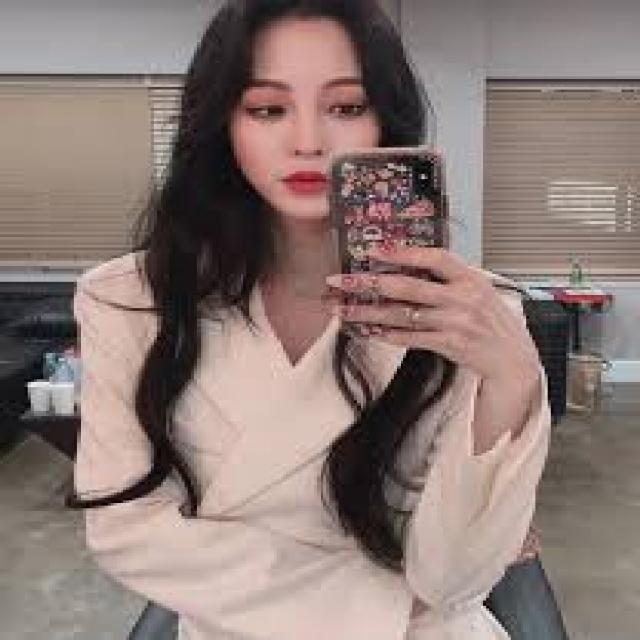Phone: (326, 147, 451, 333)
